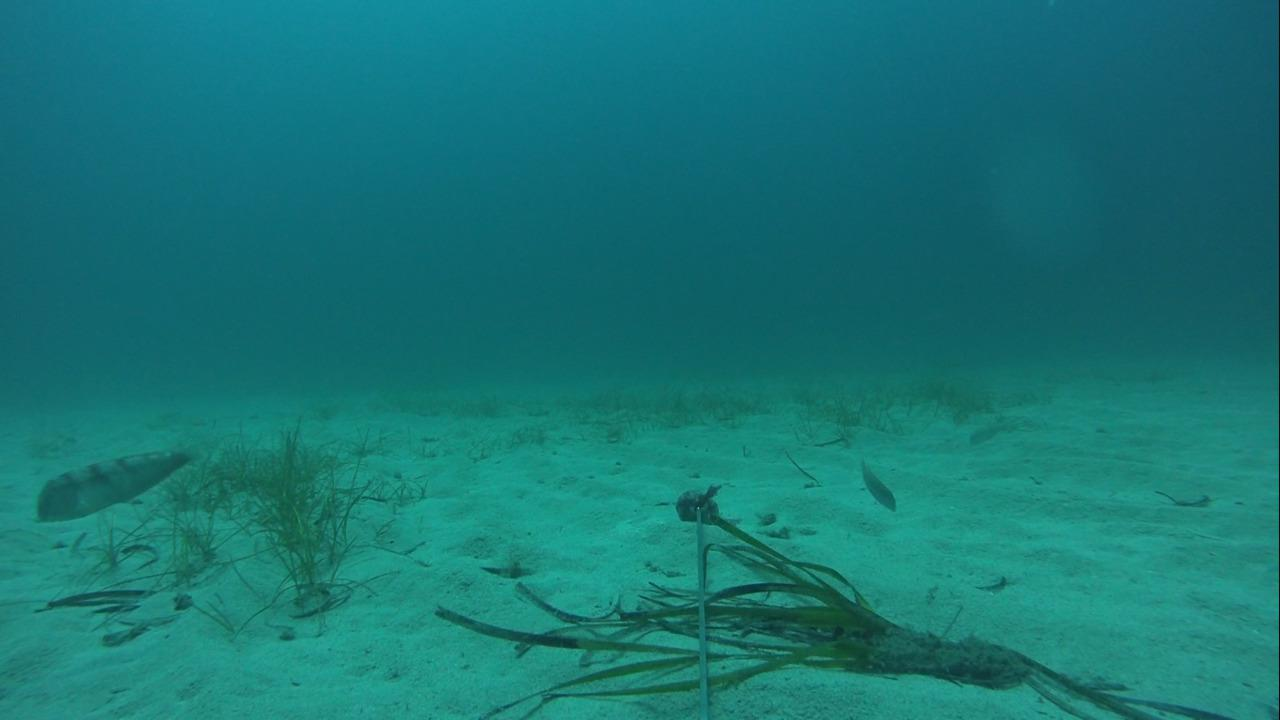raor: (32, 445, 200, 525), (850, 445, 898, 515), (969, 426, 1000, 447)
